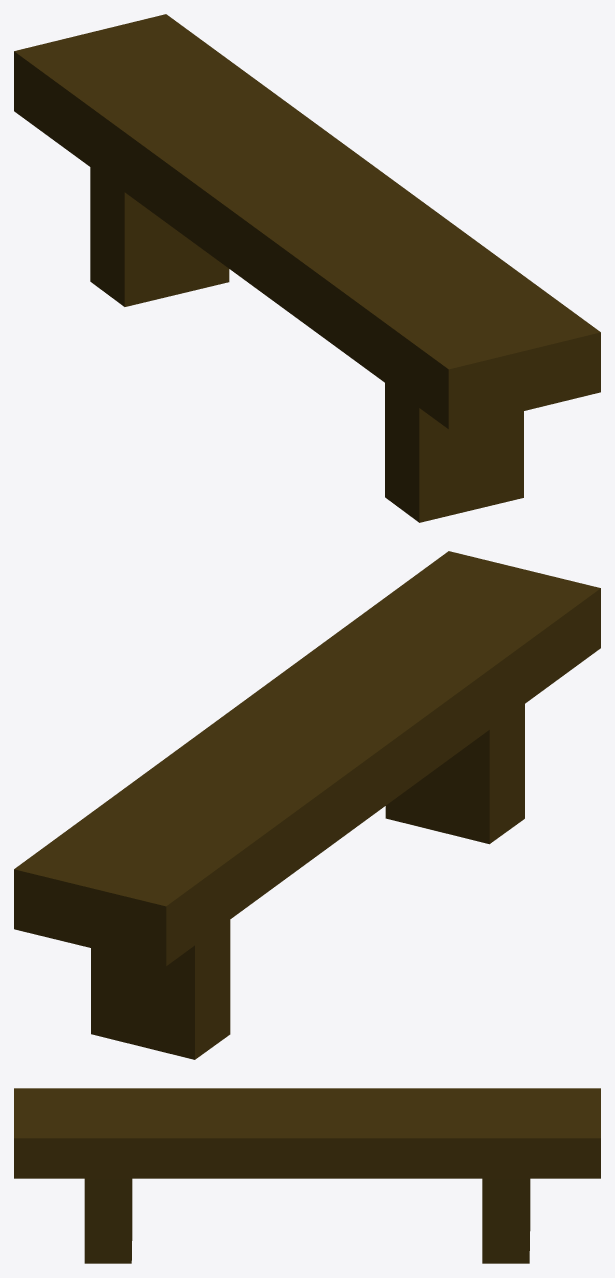
The model's file is SillaExterior1_FBX.fbx.
The picture shows the model from 3 angles, top to bottom: view 1: azimuth 30°, elevation 25°; view 2: azimuth 150°, elevation 25°; view 3: azimuth 270°, elevation 25°; orthographic projection. The views are drawn at different scales.
Parts seen in each view (by area): view 1: polySurface4; view 2: polySurface4; view 3: polySurface4.
Part boxes in pixels (x1,y1,x2,y2): polySurface4: (14, 14, 600, 522); polySurface4: (14, 551, 600, 1059); polySurface4: (14, 1088, 600, 1263).
Size of the model in its own units: 1.57 by 1.95 by 7.79.
